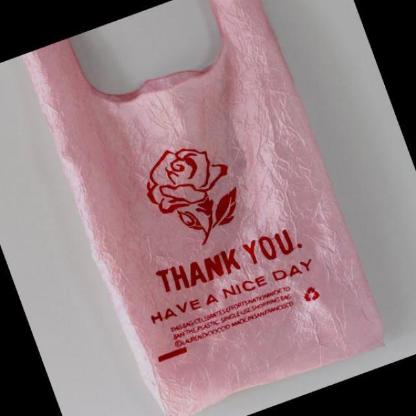Plastic Bag: (20, 2, 386, 416)
